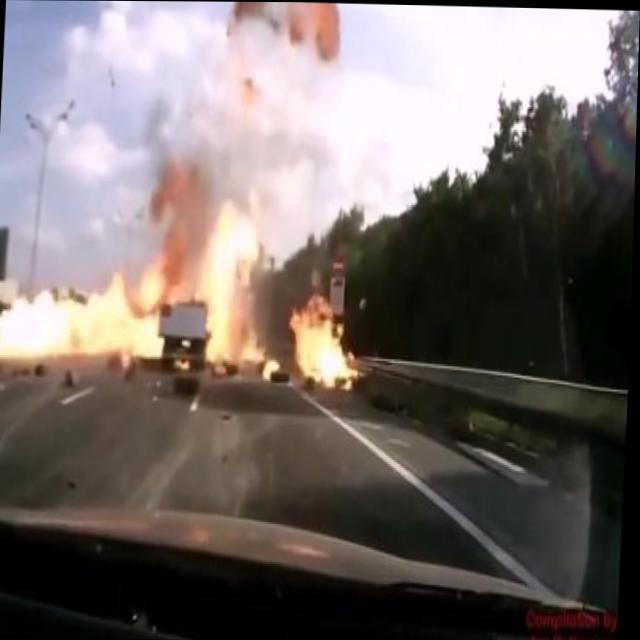fire: (0, 164, 266, 390), (284, 283, 368, 405)
